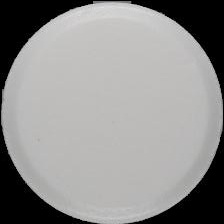66267-076: (0, 0, 224, 224)
